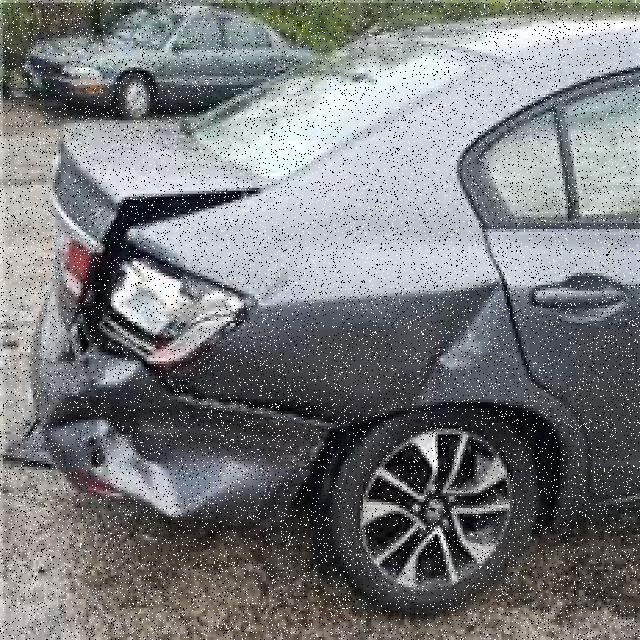quaterpanel-dent: (294, 270, 530, 472)
rear-bumper-dent: (3, 352, 355, 554)
